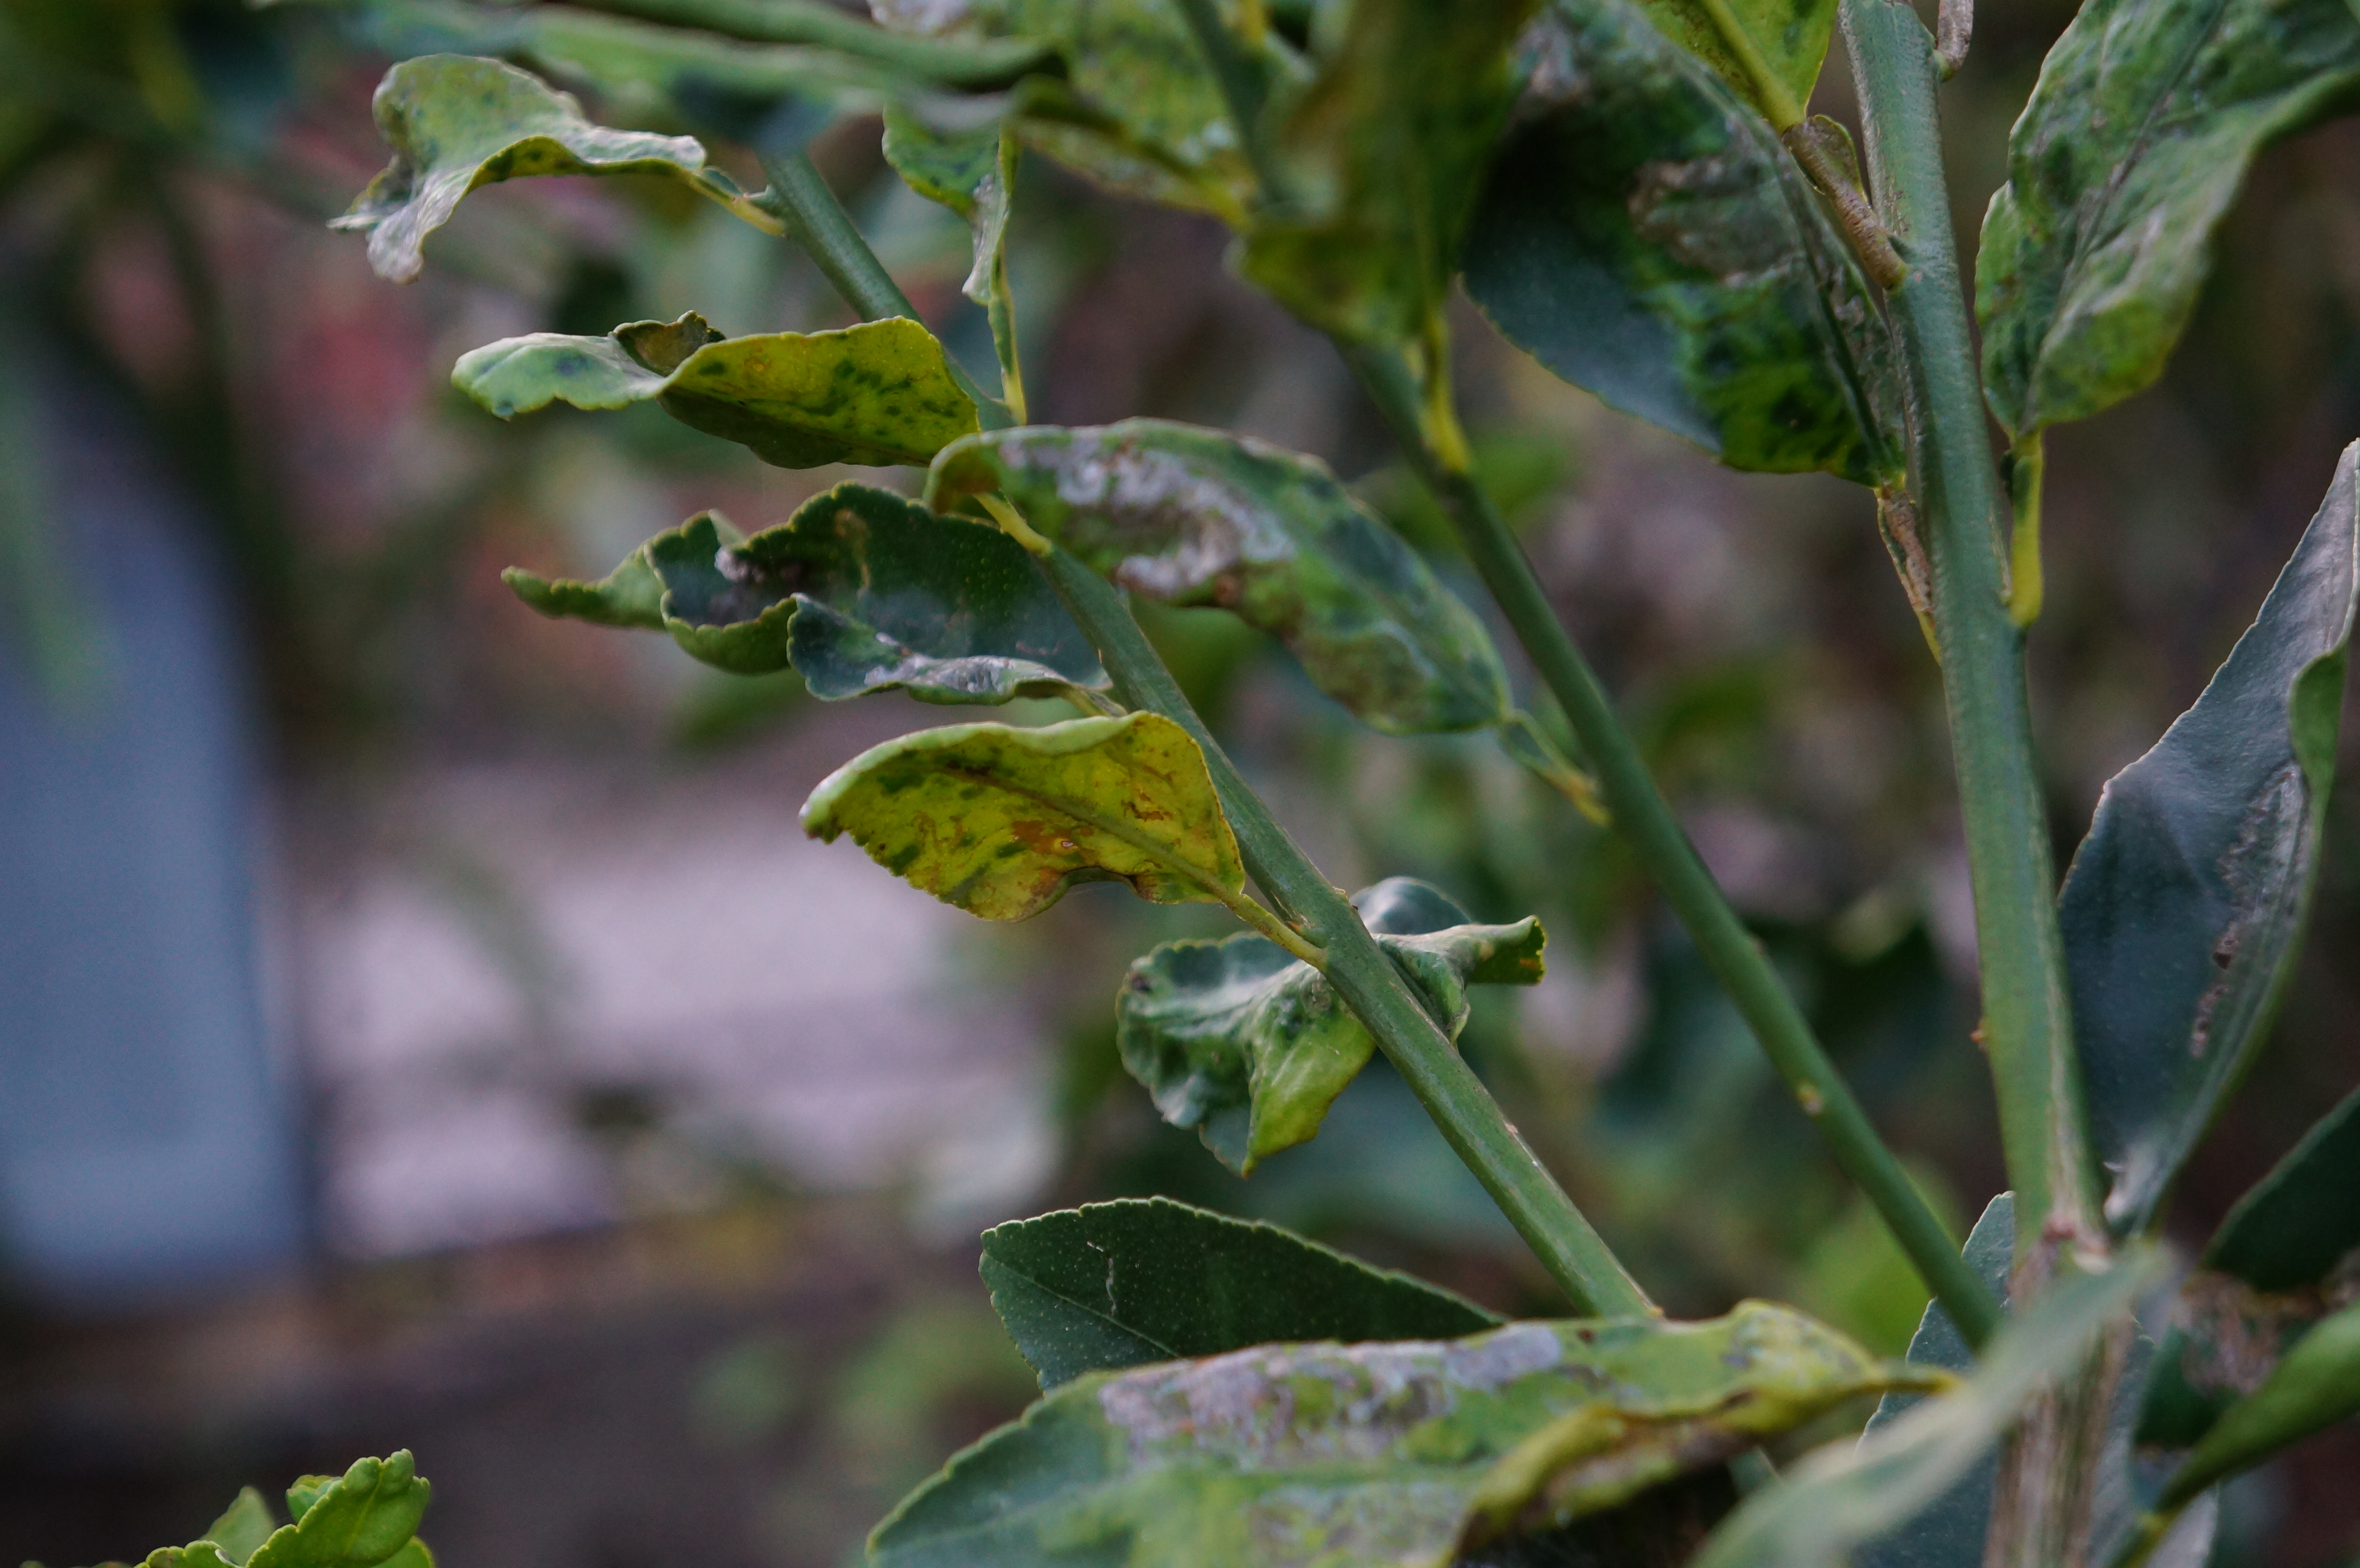damage: (901, 406, 1536, 758), (792, 700, 1319, 955), (1595, 147, 1914, 501), (593, 306, 1053, 462)
